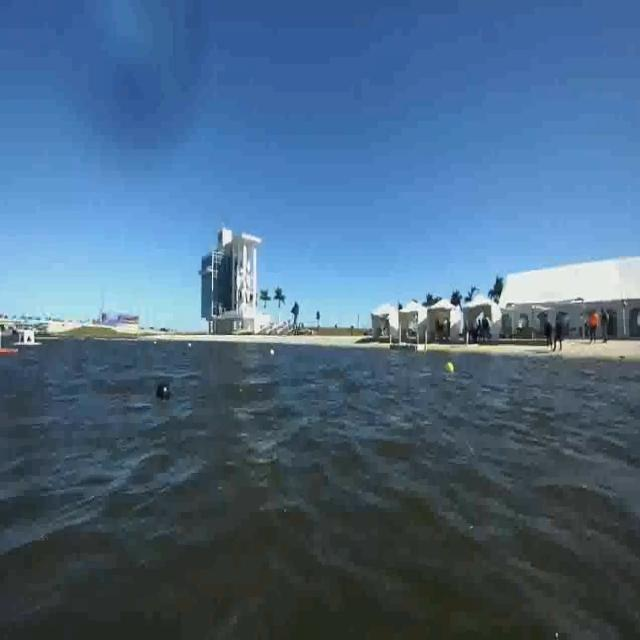black-buoy: (153, 378, 172, 408)
yellow-buoy: (446, 359, 457, 374)
